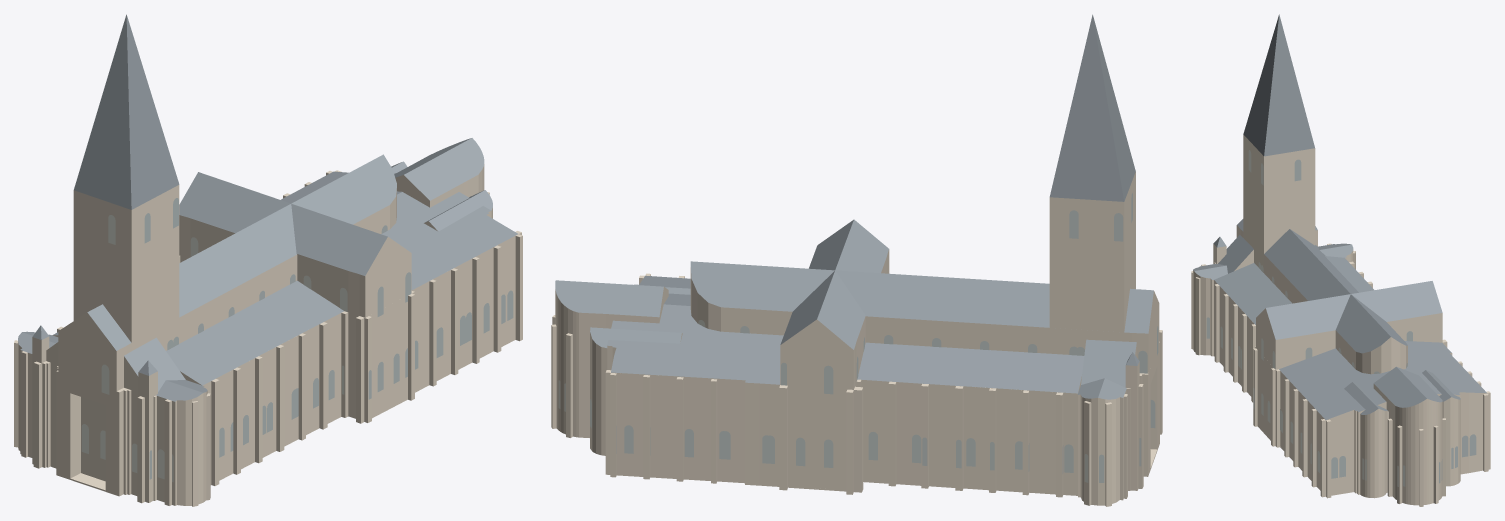
The picture shows the model from 3 angles, left to right: view 1: azimuth 30°, elevation 25°; view 2: azimuth 150°, elevation 25°; view 3: azimuth 270°, elevation 25°; orthographic projection. The views are drawn at different scales.
Parts seen in each view (by area): view 1: stone, roof, window; view 2: stone, roof, window; view 3: stone, roof, window.
Part boxes in pixels (left/top/right/bottom): stone: left=14, top=164, right=522, bottom=506; roof: left=18, top=14, right=517, bottom=401; window: left=81, top=198, right=513, bottom=482; stone: left=551, top=171, right=1162, bottom=506; roof: left=555, top=14, right=1153, bottom=399; window: left=558, top=193, right=1158, bottom=482; stone: left=1191, top=134, right=1490, bottom=506; roof: left=1193, top=14, right=1486, bottom=419; window: left=1206, top=150, right=1476, bottom=486.
Bounding box in the file's own units: 94.9 × 78 × 63.94.
